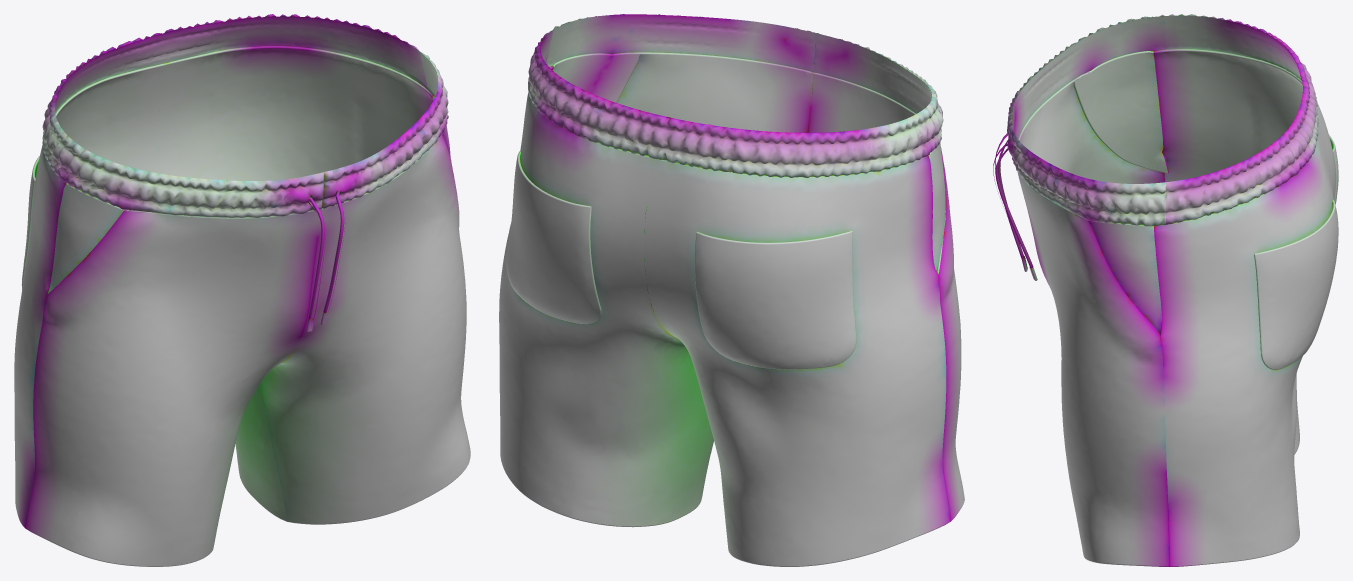
Rendered from shorts.glb.
3 renders of one model, left to right at view 1: azimuth 30°, elevation 25°; view 2: azimuth 150°, elevation 25°; view 3: azimuth 270°, elevation 25°, orthographic. The views are drawn at different scales.
Parts seen in each view (by area): view 1: front, back, pockets; view 2: back, front, pockets; view 3: back, front, pockets.
Boxes of the visible parts, x1,y1,x2,y2 form: front: (25, 52, 470, 566); back: (14, 14, 433, 528); pockets: (21, 70, 450, 336); back: (499, 30, 950, 566); front: (546, 14, 964, 520); pockets: (506, 45, 945, 369); back: (1153, 14, 1335, 566); front: (993, 14, 1169, 566); pockets: (998, 51, 1338, 369).
Bounding box in the file's own units: 0.5034 × 0.5 × 0.3659.
